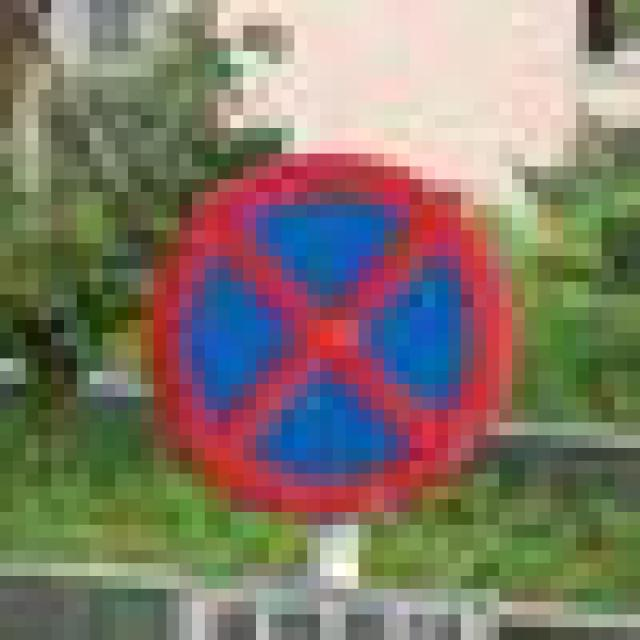NO_STOPPING_OR_STANDING: (128, 141, 499, 499)
